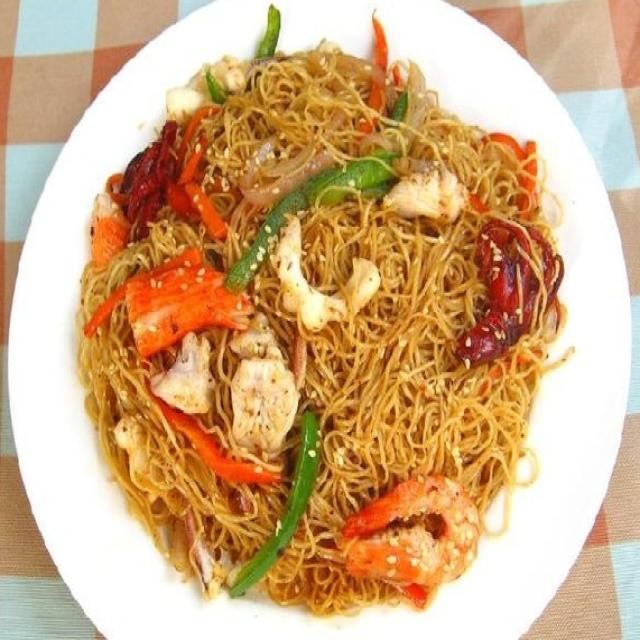面条主食: (46, 24, 587, 612)
